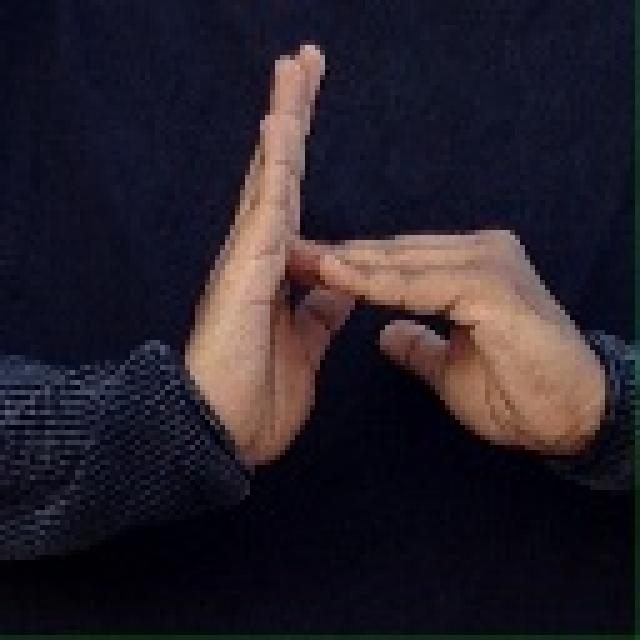Z: (228, 7, 536, 474)
